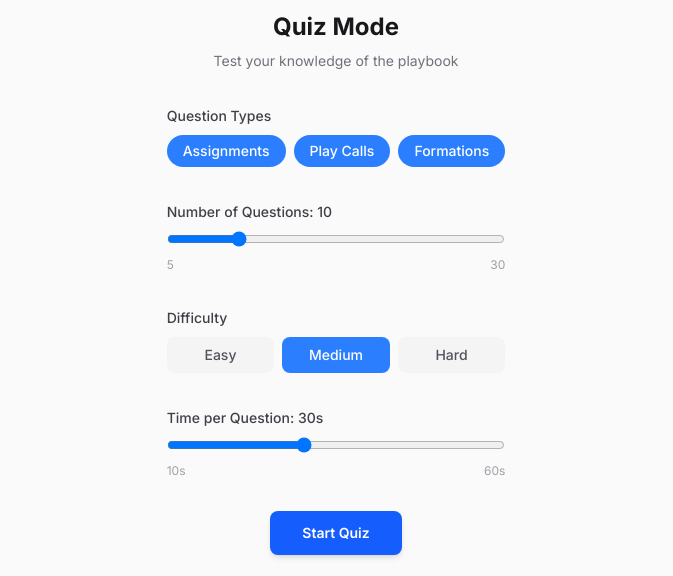
Test: QuizMode › shows progress indicator during quiz
What coordinates should you click on to do the following:
click the button with test id "start-quiz-btn"
I would click on:
 (336, 533)
Its box is [270,511,402,555].
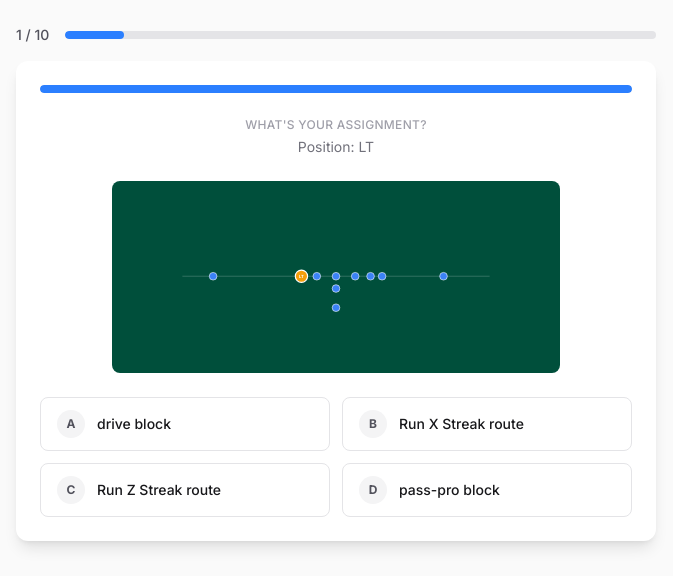
Expected: the text "1 / 10" is shown, [16,25,49,45]
Expected: the element with test id "progress-bar" is shown, [65,31,124,39]
